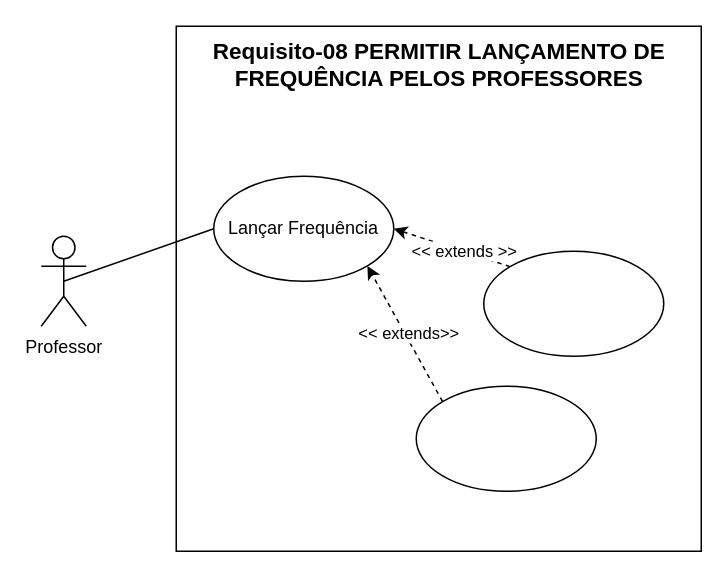
Image size: 728x578. Some labels were removed from this diagram. The shapes that lost their labels are listed below. From the top down, each one's centre as x and y in pixels, then its label:
point (573, 303): Histórico Escolar
point (505, 438): Comprovante de Frequência
